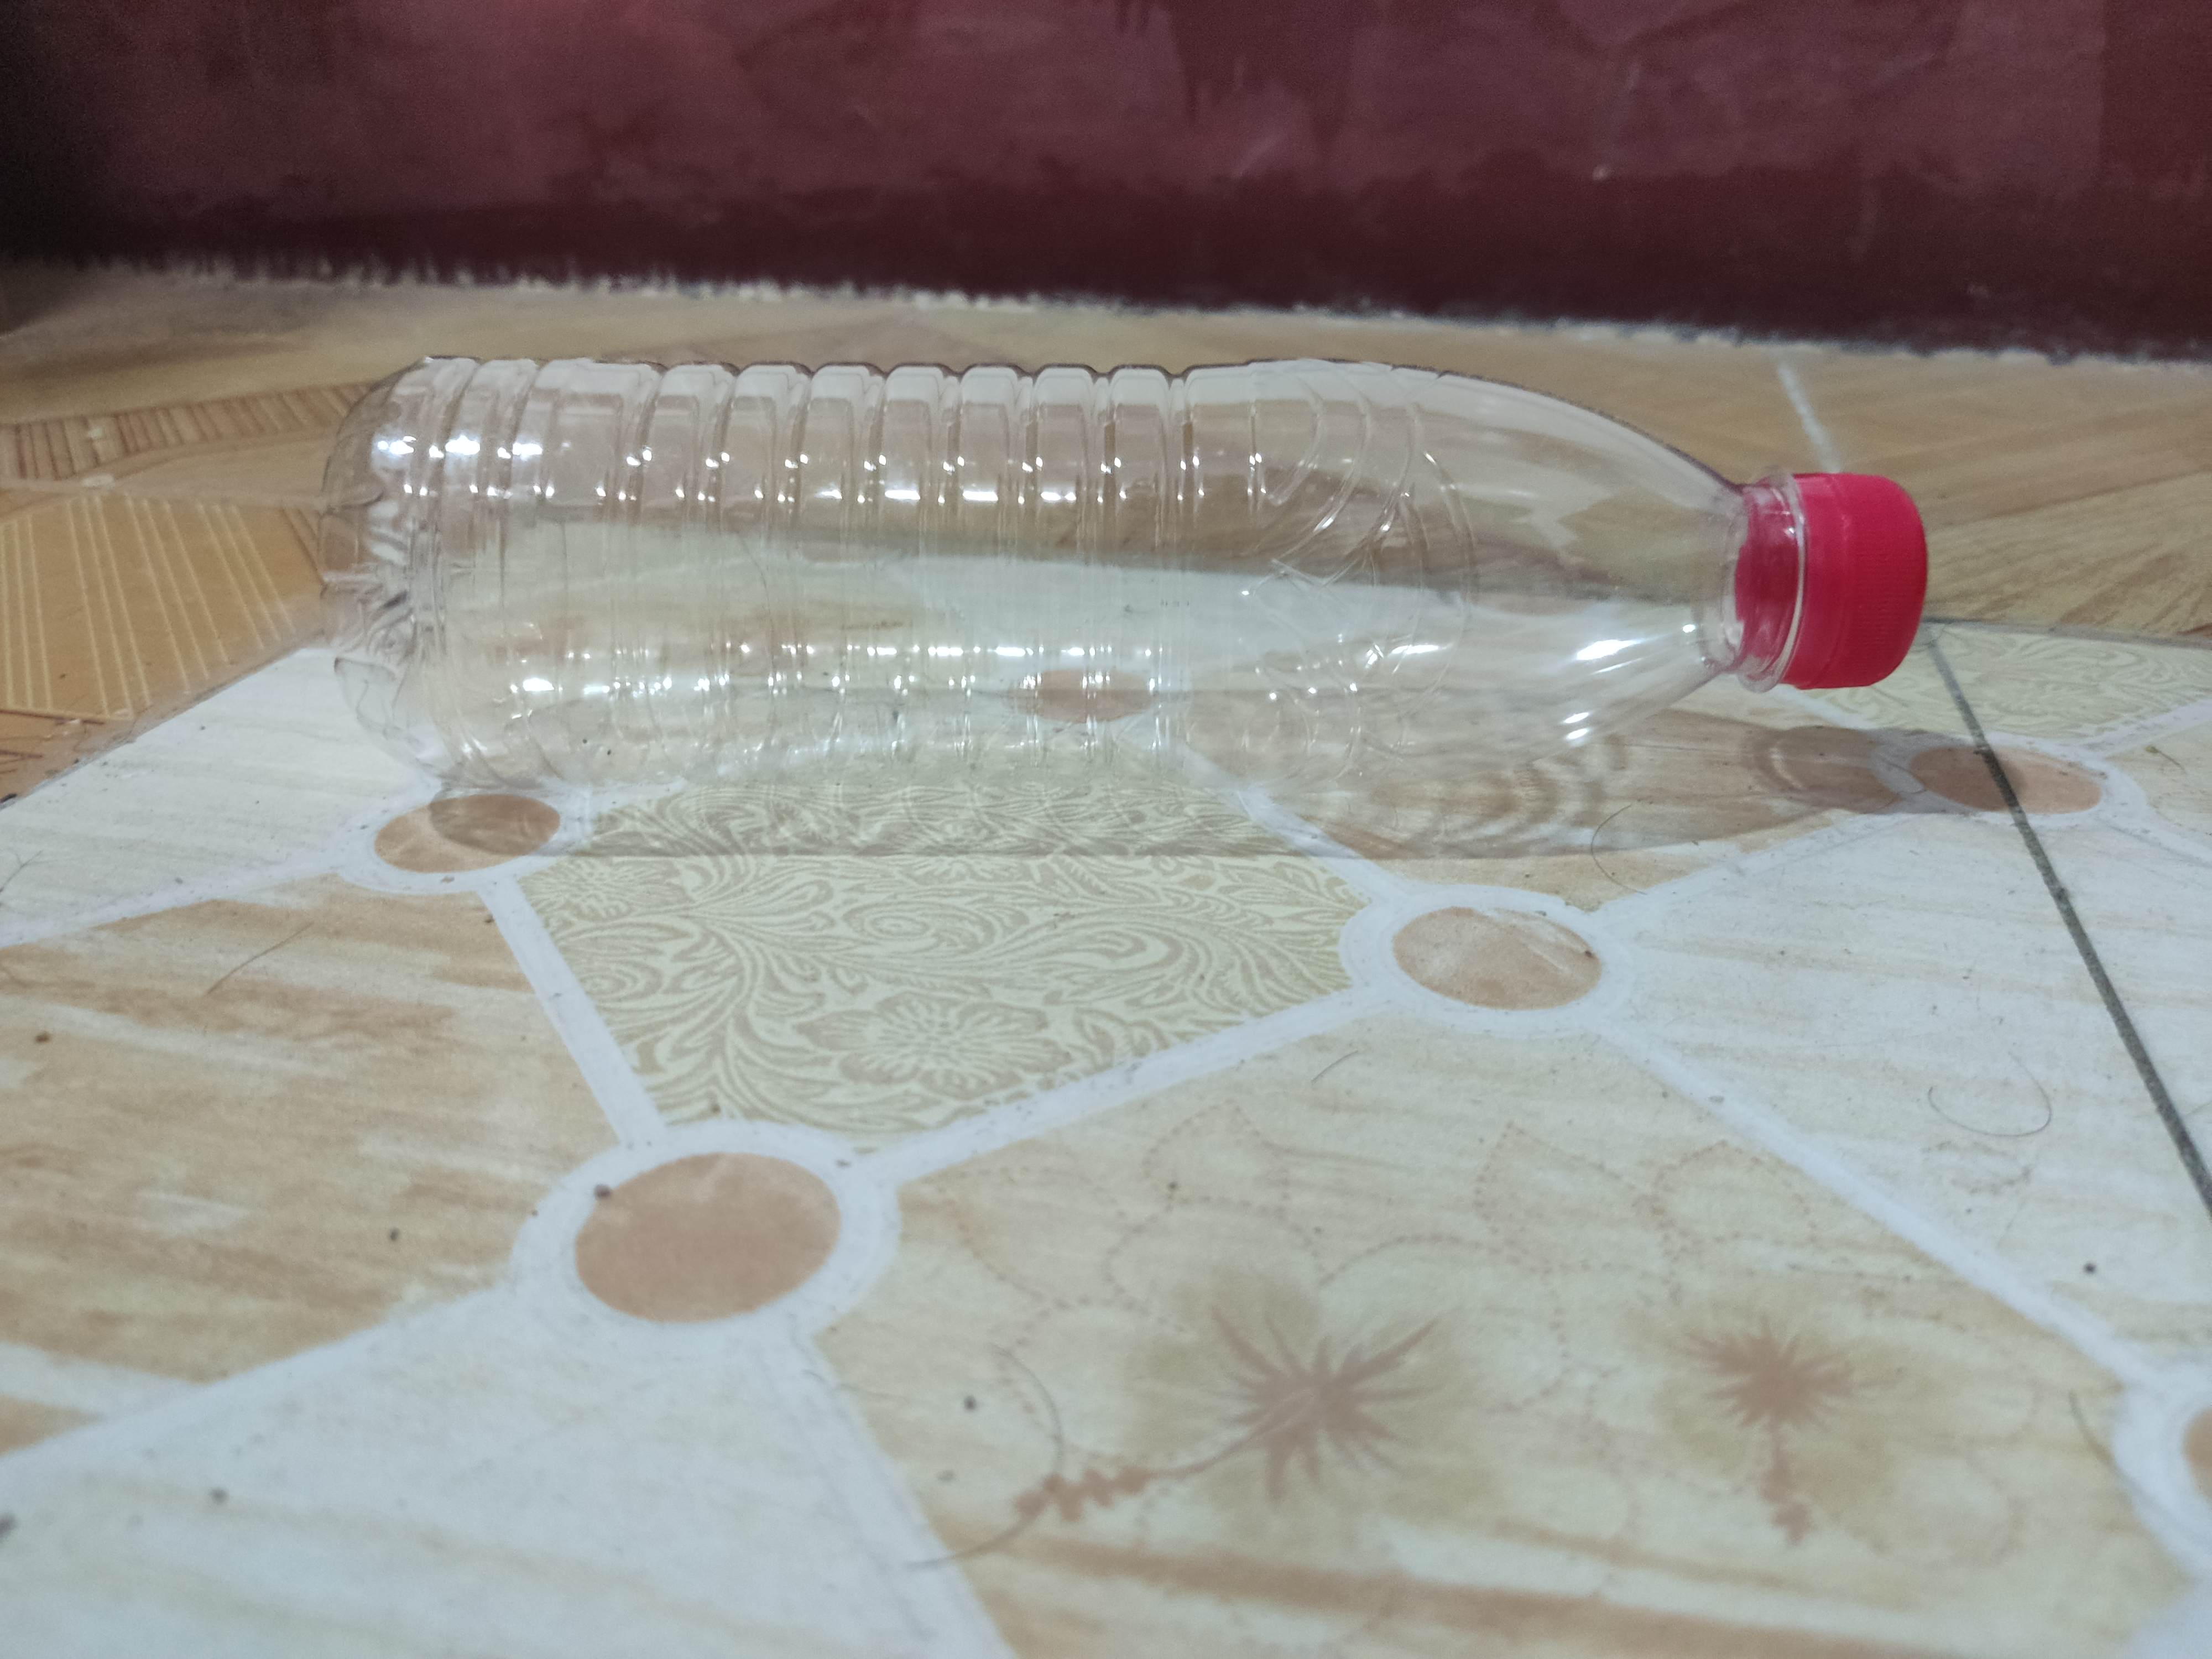Plastic Bottle: (312, 350, 1937, 812)
